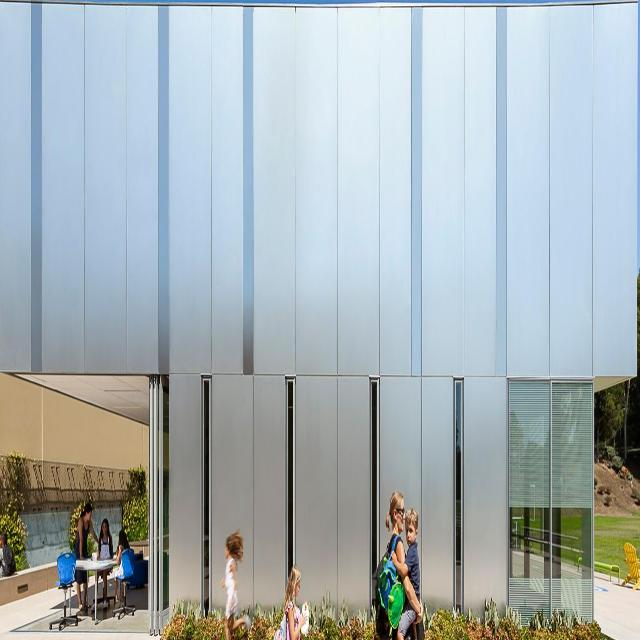wall: (0, 0, 638, 628)
windows: (510, 376, 593, 614), (202, 374, 212, 610), (454, 378, 464, 610), (371, 374, 380, 605), (163, 375, 170, 610), (288, 372, 296, 566)
